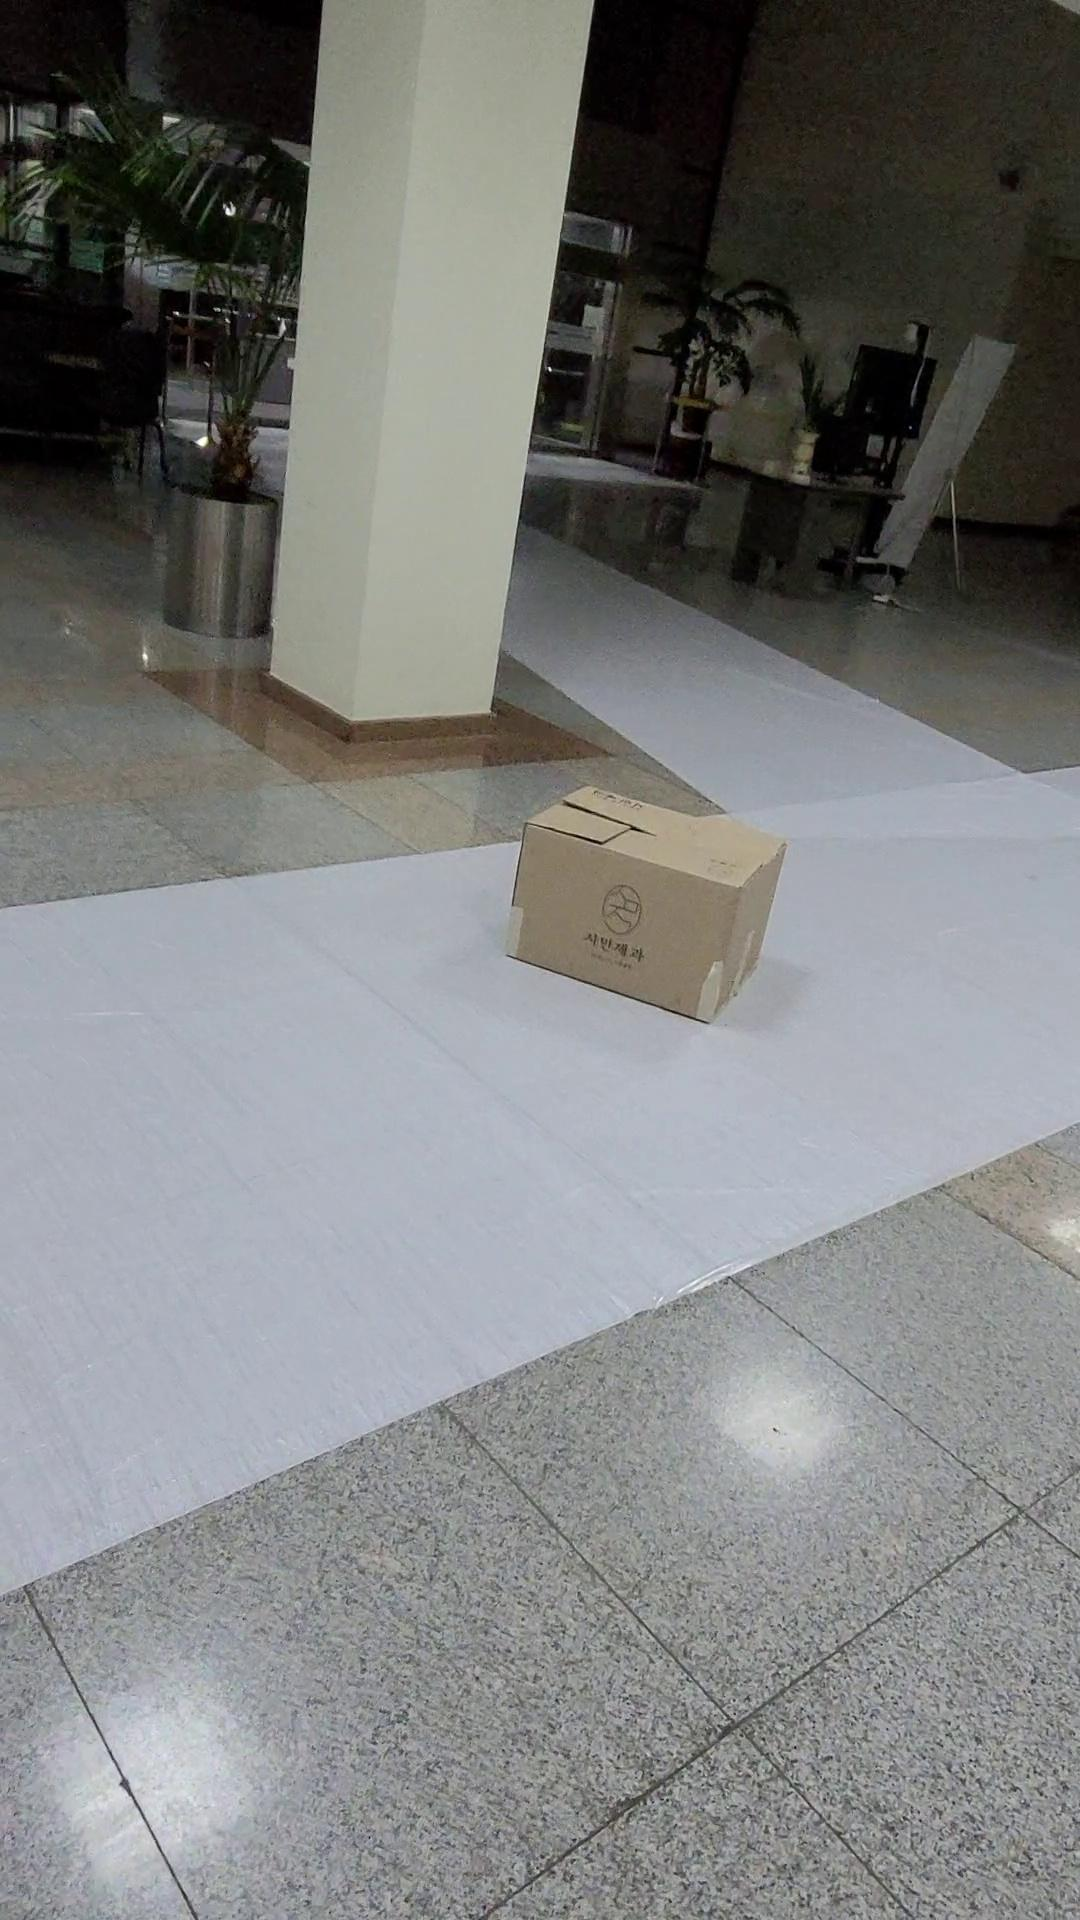Box: (433, 738, 819, 1048)
